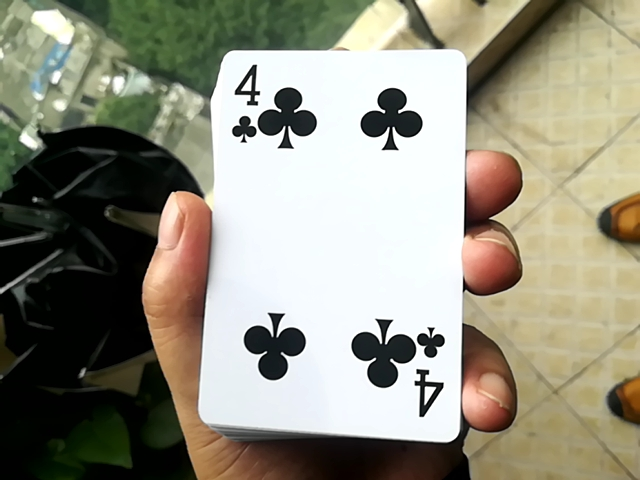mh 4: (189, 33, 465, 442)
